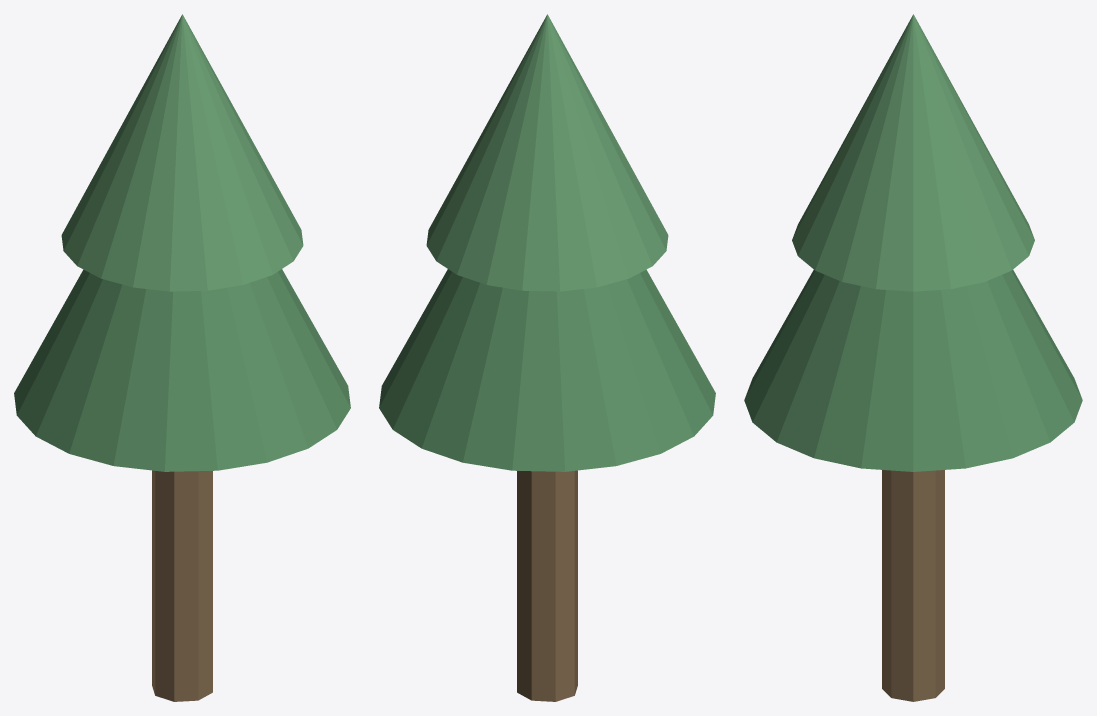
File: large_snowy_tree.glb
3 views of the same model, side by side, from view 1: azimuth 30°, elevation 25°; view 2: azimuth 150°, elevation 25°; view 3: azimuth 270°, elevation 25° (orthographic).
Visible parts, largest first — view 1: tree_0_1, tree_0_2, tree_0_0; view 2: tree_0_1, tree_0_2, tree_0_0; view 3: tree_0_1, tree_0_2, tree_0_0.
Part boxes in pixels (x1,y1,x2,y2): tree_0_1: (14, 269, 350, 471); tree_0_2: (61, 14, 303, 291); tree_0_0: (152, 470, 212, 701); tree_0_1: (379, 269, 715, 471); tree_0_2: (426, 14, 668, 291); tree_0_0: (517, 470, 577, 701); tree_0_1: (744, 270, 1082, 471); tree_0_2: (792, 14, 1034, 291); tree_0_0: (882, 470, 944, 701).
Size of the model in its own units: 3.46 by 7.6 by 3.46.
